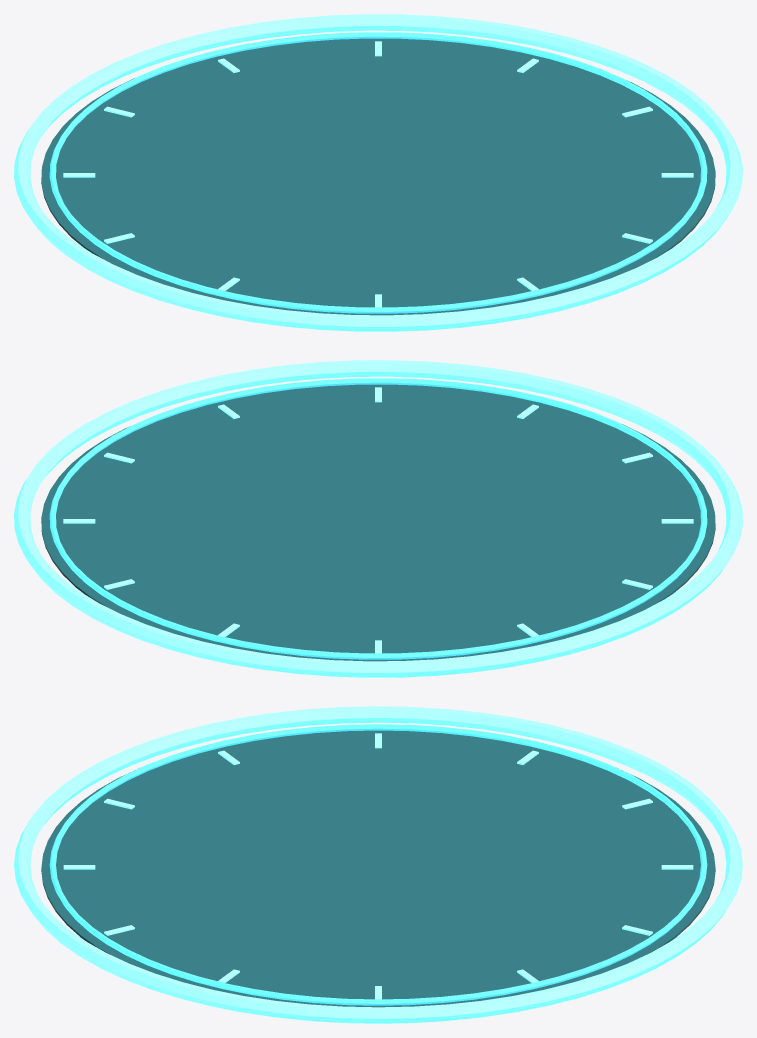
The model's file is sea-circle.glb.
3 renders of one model, top to bottom at view 1: azimuth 30°, elevation 25°; view 2: azimuth 150°, elevation 25°; view 3: azimuth 270°, elevation 25°, orthographic.
Parts seen in each view (by area): view 1: sea-circle; view 2: sea-circle; view 3: sea-circle.
Boxes of the visible parts, box(x1,y1,x2,y2) form: sea-circle: box(14, 14, 742, 331); sea-circle: box(14, 360, 742, 677); sea-circle: box(14, 706, 742, 1023).
Bounding box in the file's own units: 5.73 × 0.1126 × 5.73.
